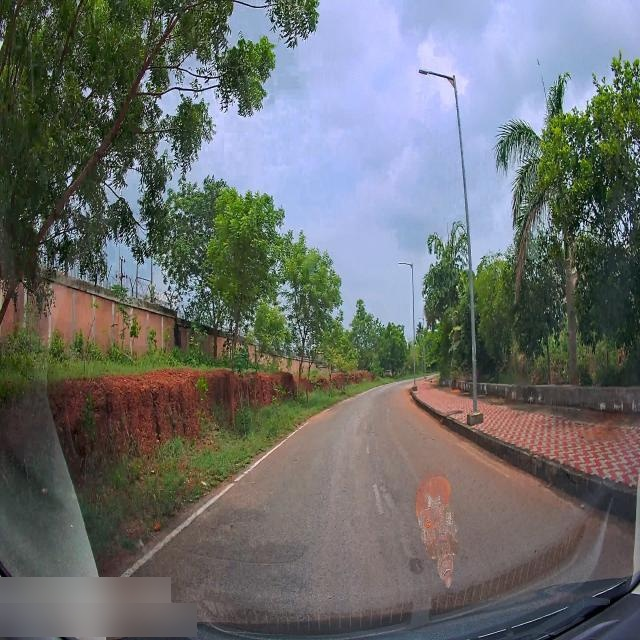pothole: (377, 476, 402, 520), (407, 552, 425, 576), (368, 414, 376, 450)
